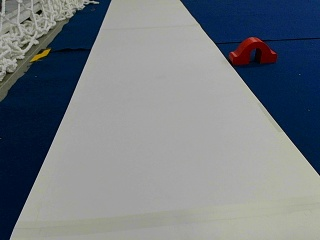bridge: (230, 37, 275, 63)
